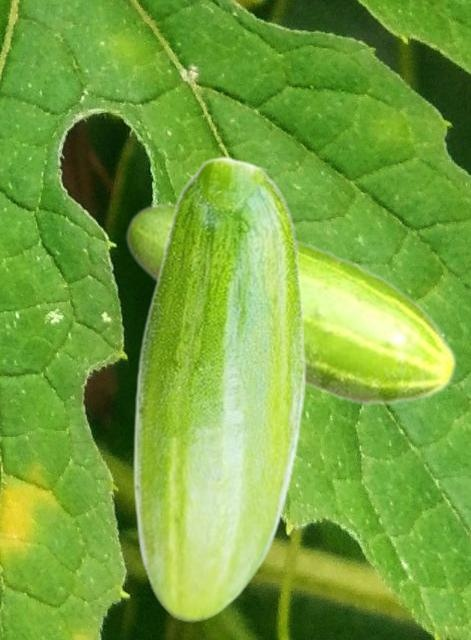cucumber: (132, 156, 305, 621), (125, 202, 457, 407)
